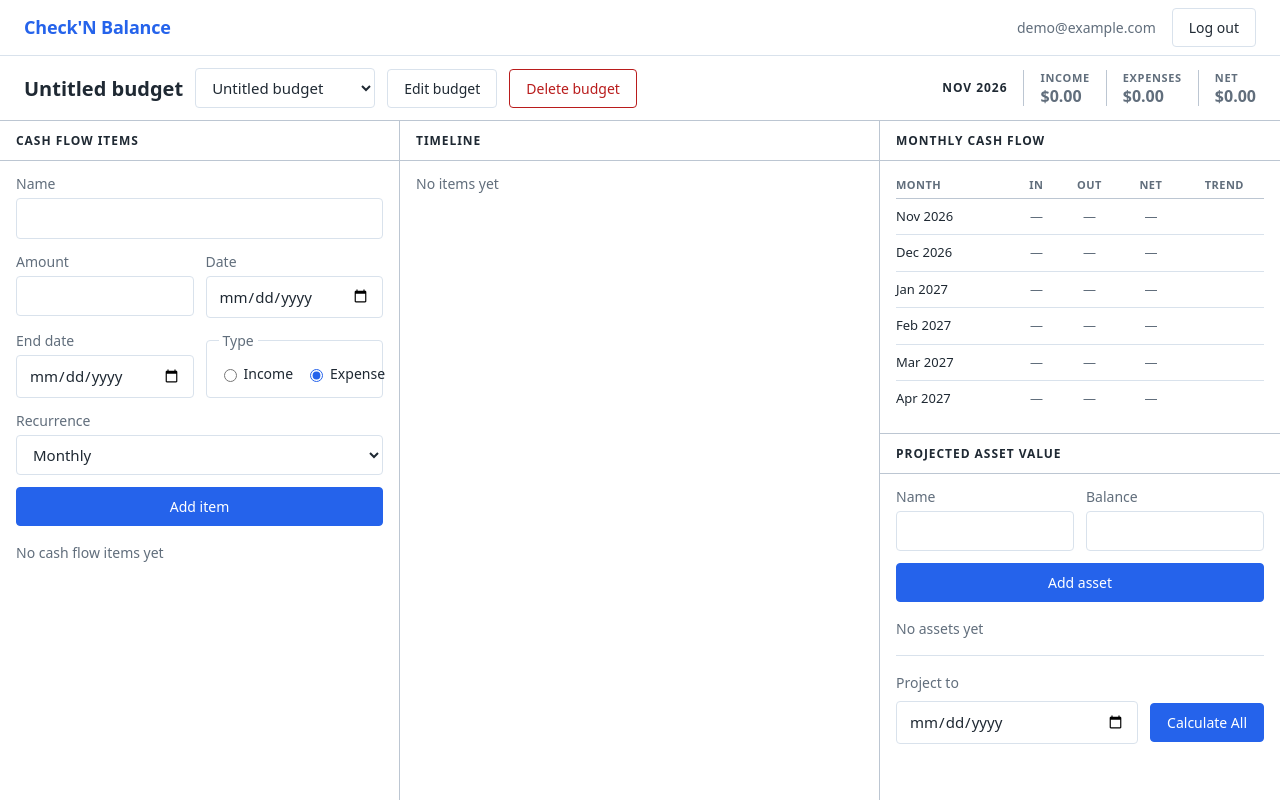
Test: the add form › a blank name shows the server's message and keeps what you typed
Clear the 1st field labelled "Name". click: (200, 218)
box: 16,198 -> 383,238
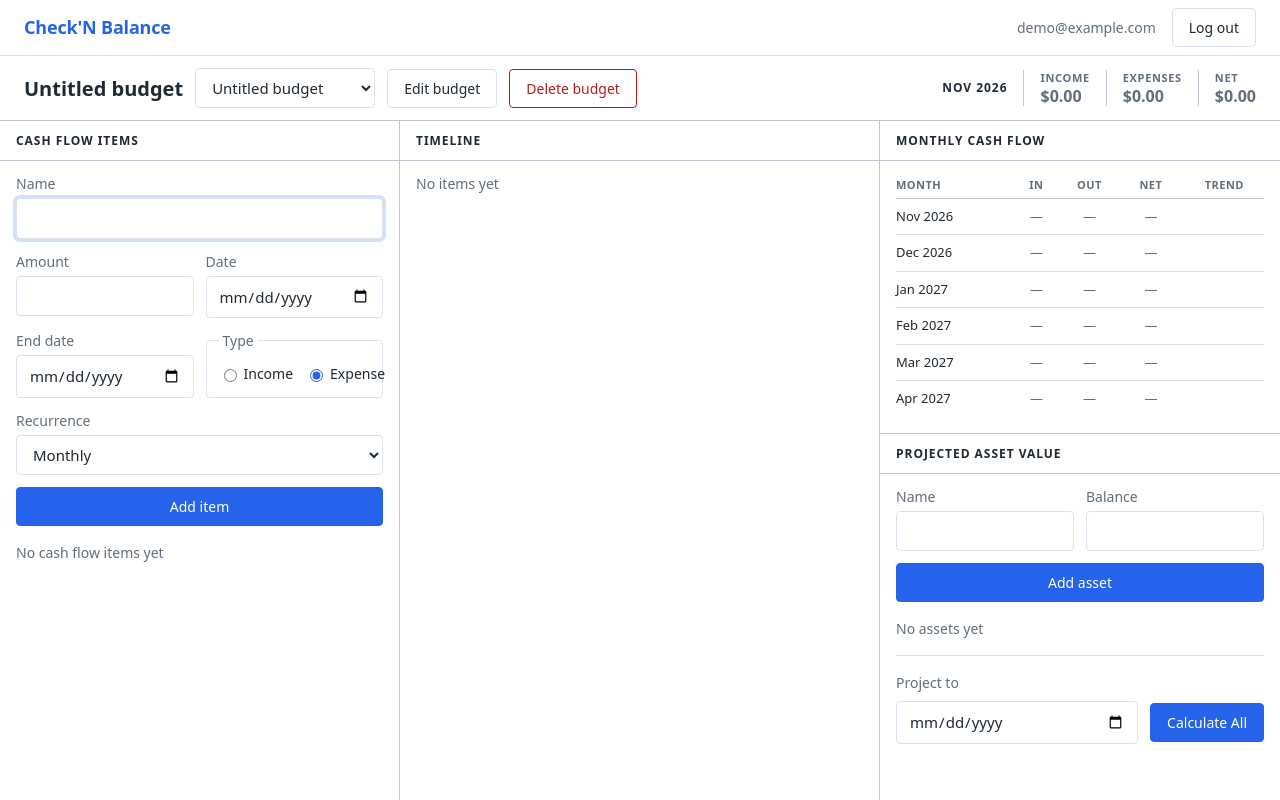
Type "40" into the number field labelled "Amount". click: (105, 296)
box: 16,276 -> 194,316
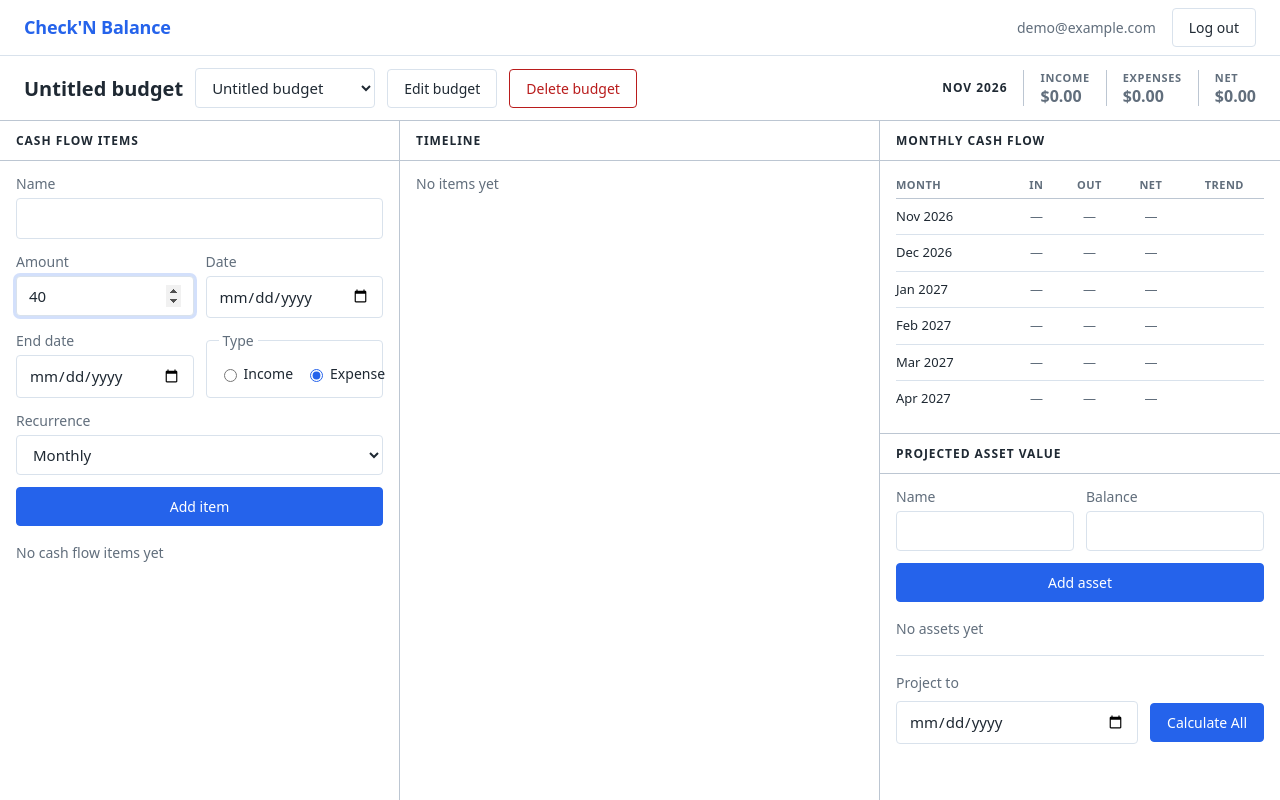
Type "2026-11-15" into the date field labelled "Date". click: (294, 297)
box: 206,276 -> 383,318
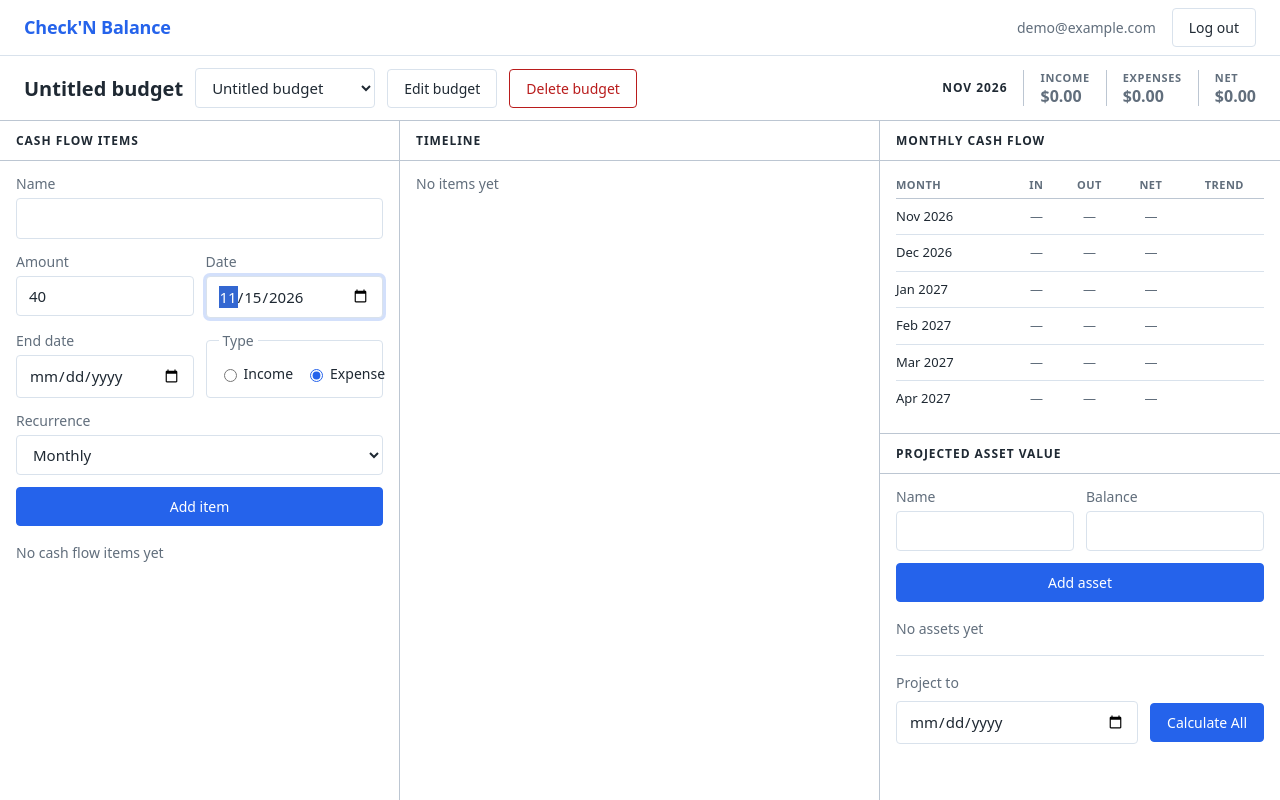
Click the button "Add item". click: (200, 506)
box: 16,486 -> 383,526
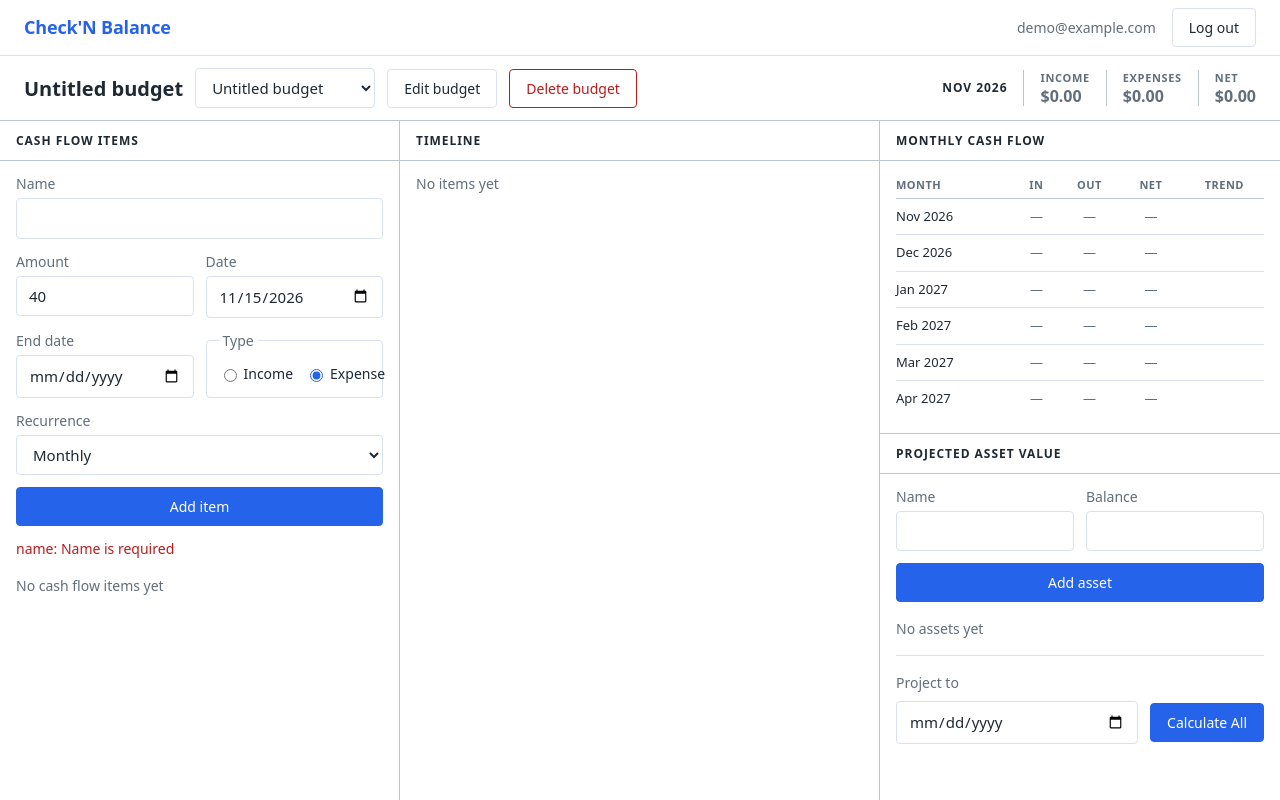
Check: the text "No cash flow items yet" is shown, box 16,576 -> 164,594
Check: the message reads "name: Name is required", box 16,538 -> 174,558
